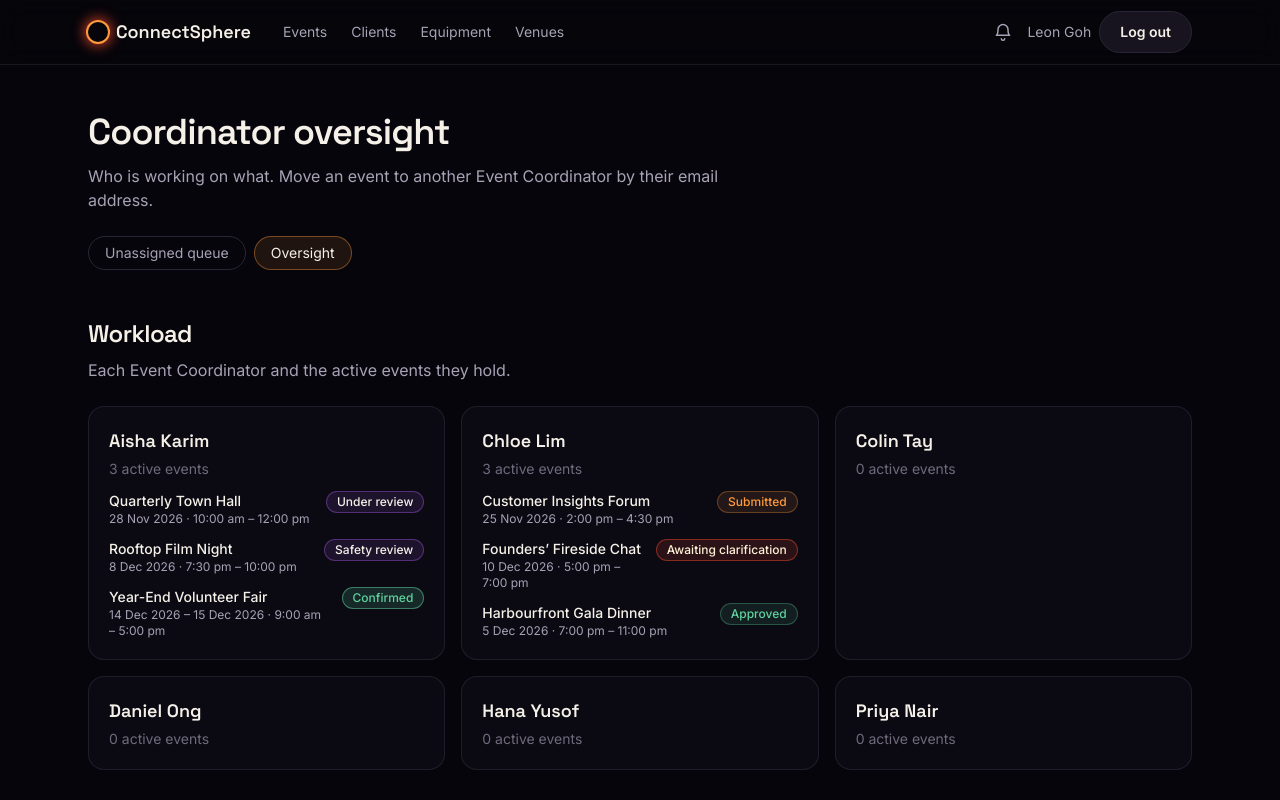
Test: SCRUM-96 the Lead oversight page: the active events › opens the record of an event in a coordinator's workload (SCRUM-24 AC10)
The width and height of the screenshot is (1280, 800).
Click the link "Harbourfront Gala Dinner".
click(575, 613)  # box [482,603,667,623]
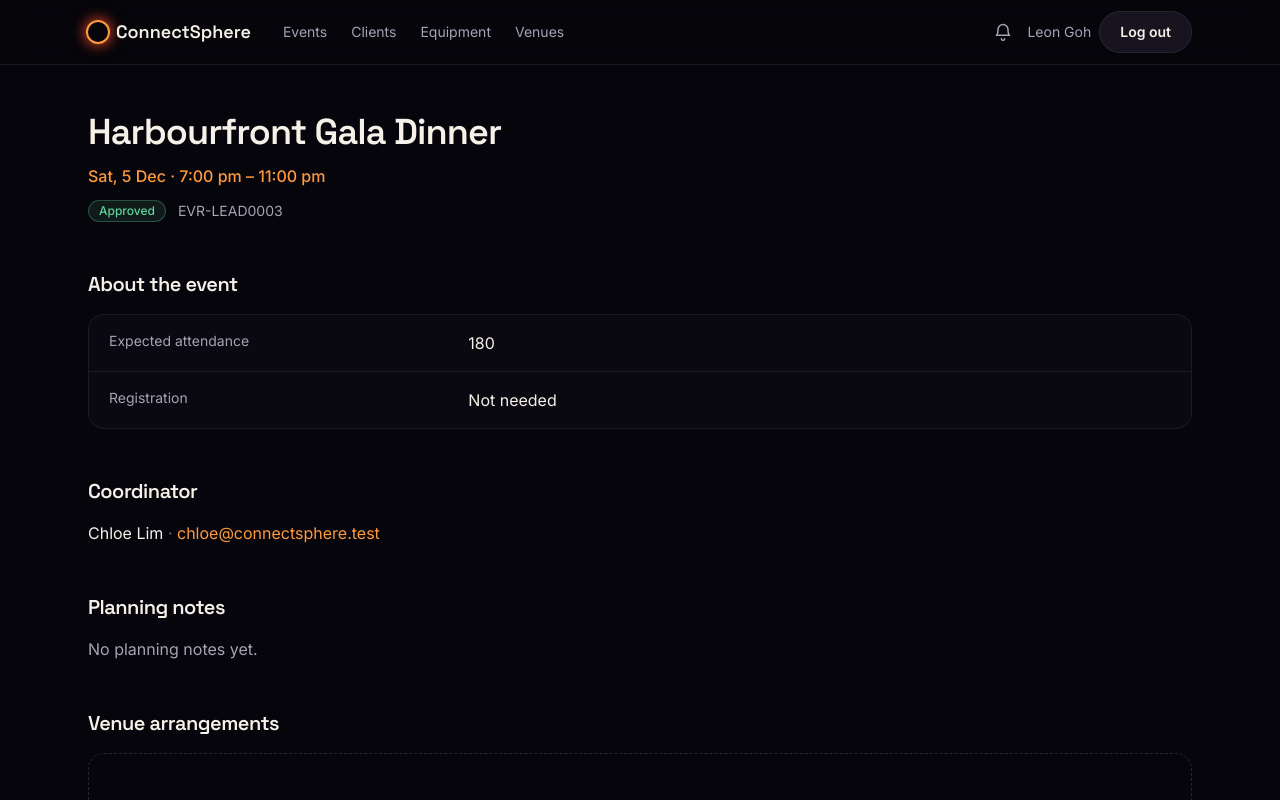
Expected: the heading "Harbourfront Gala Dinner" is shown, [88,109,501,155]
